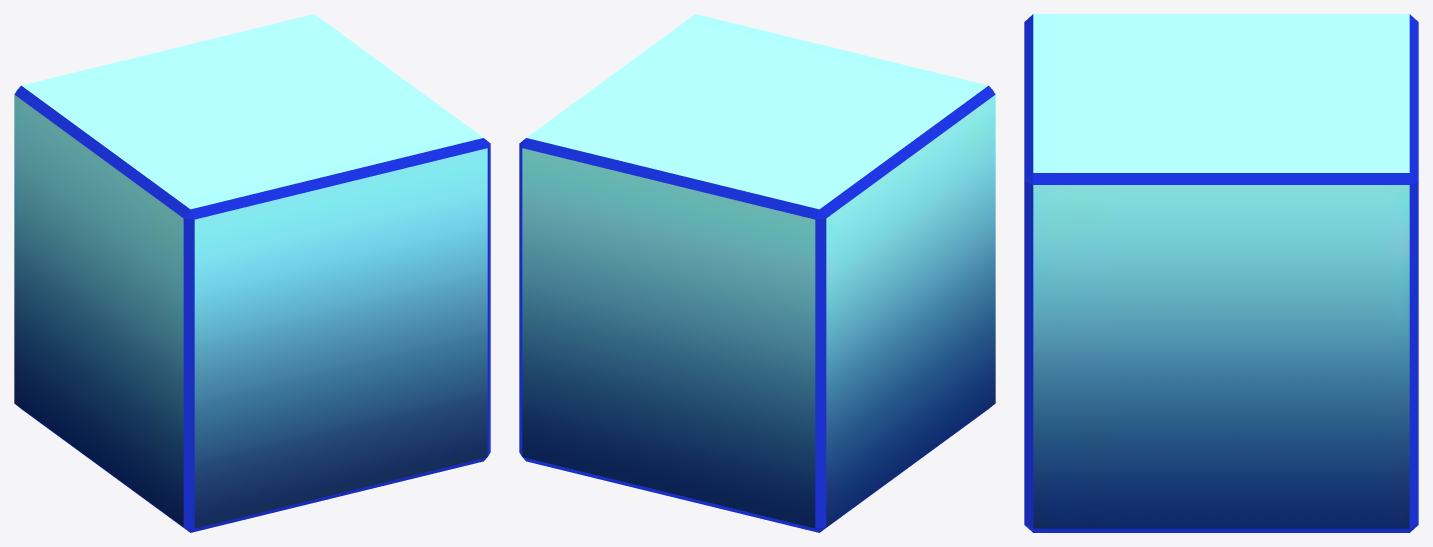
The model's file is 37952af2-7c3b-4bd6-8409-2e7dbecf6885.glb.
The picture shows the model from 3 angles, left to right: view 1: azimuth 30°, elevation 25°; view 2: azimuth 150°, elevation 25°; view 3: azimuth 270°, elevation 25°; orthographic projection. The views are drawn at different scales.
Visible parts, largest first — view 1: CyberPunkCubeShapeB.008; view 2: CyberPunkCubeShapeB.008; view 3: CyberPunkCubeShapeB.008.
Part boxes in pixels (<box>): CyberPunkCubeShapeB.008: <box>14,14,490,532</box>; CyberPunkCubeShapeB.008: <box>519,14,995,532</box>; CyberPunkCubeShapeB.008: <box>1024,14,1418,532</box>.
Size of what is drawn, in the model's own units: 0.7415 by 0.7467 by 0.7415.
Materials: 2 (2 with a texture image).
